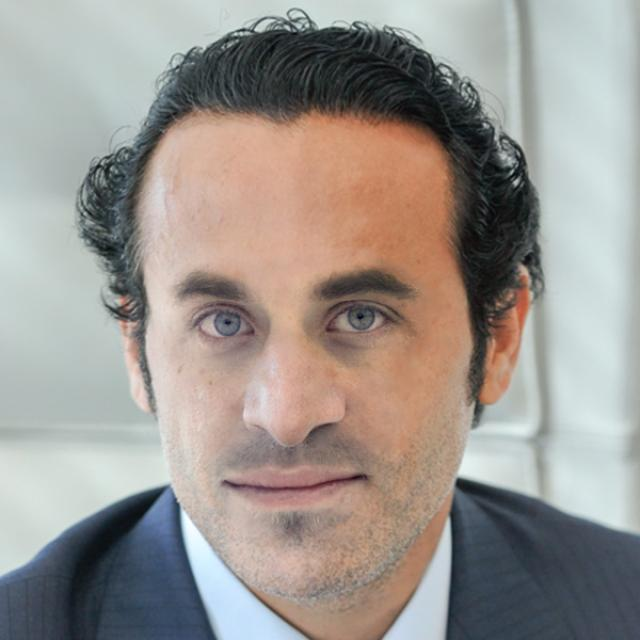face: (70, 38, 546, 607)
